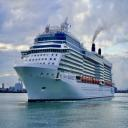cruises: (13, 15, 119, 106)
